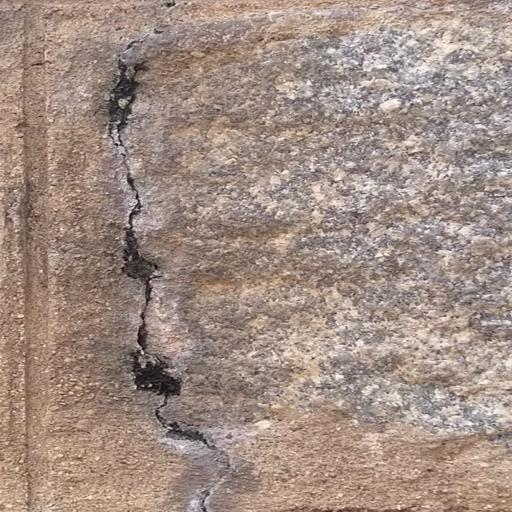minor_crack: (96, 50, 252, 512)
